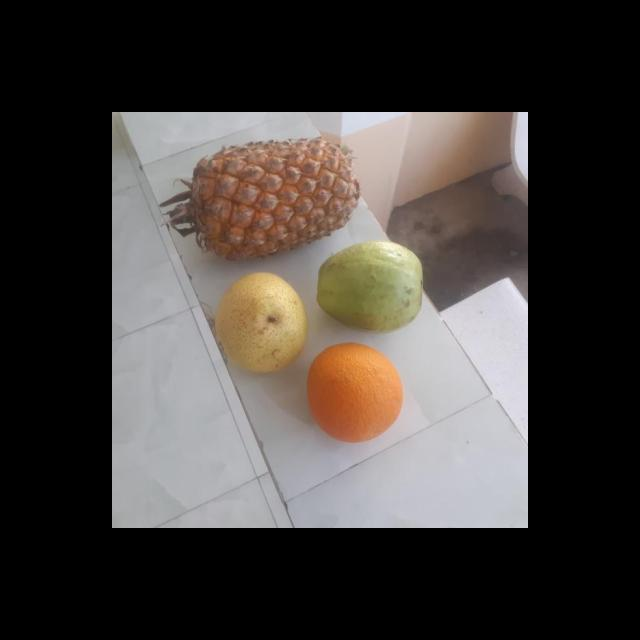guava: (313, 240, 422, 330)
orange: (300, 341, 406, 441)
pear: (212, 271, 306, 372)
pineapple: (178, 141, 356, 261)
